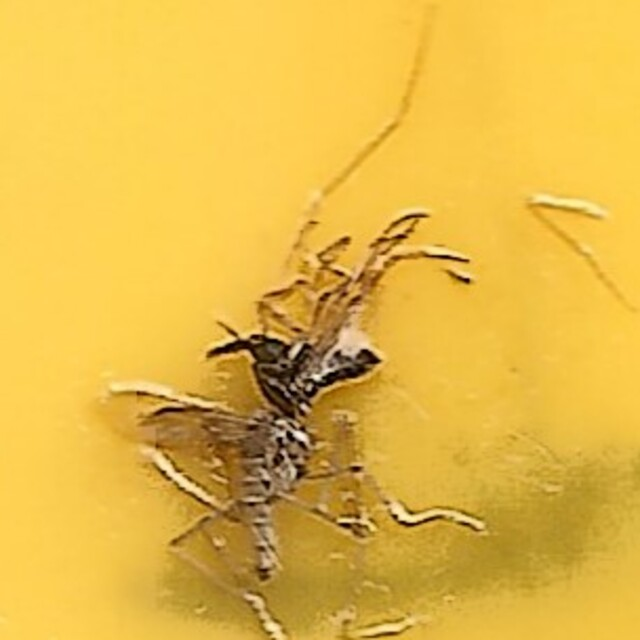Brachycera: (211, 209, 429, 431)
